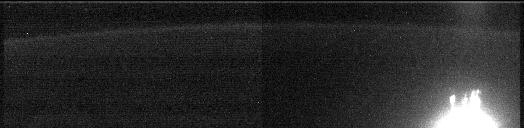positive: (446, 86, 484, 113)
